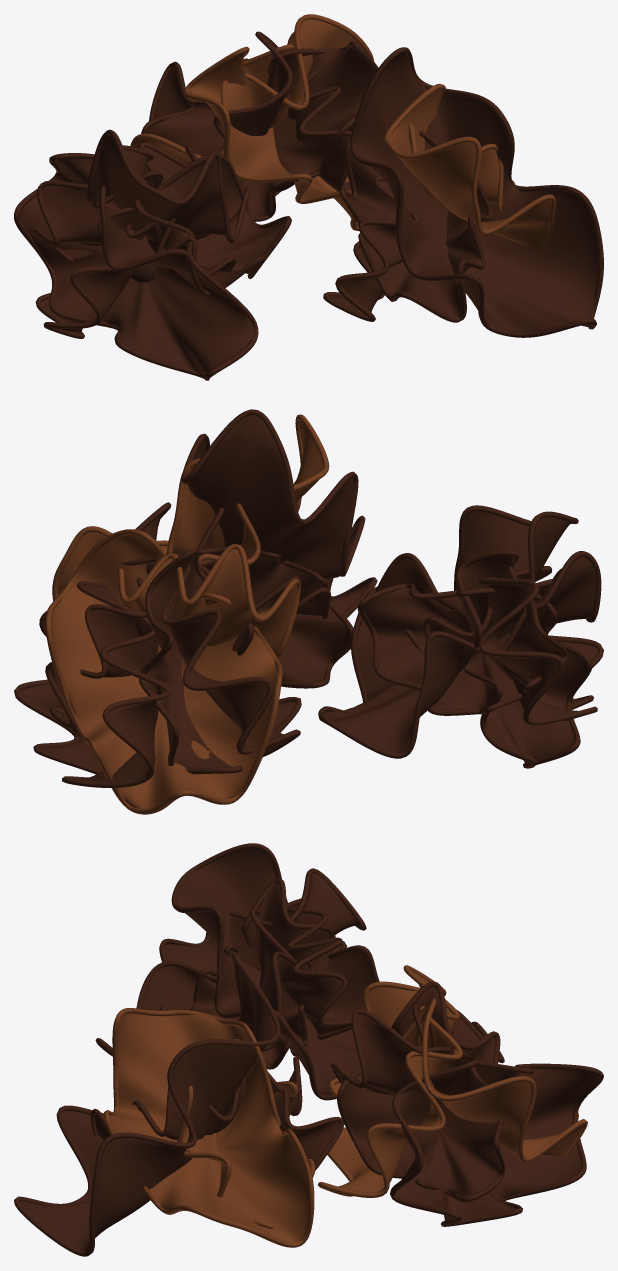
Rendered from jamur_kuping.glb.
3 renders of one model, top to bottom at view 1: azimuth 30°, elevation 25°; view 2: azimuth 150°, elevation 25°; view 3: azimuth 270°, elevation 25°, orthographic. The views are drawn at different scales.
Visible parts, largest first — view 1: rumpun_kanan_bawah_lobe_2_blade, rumpun_kiri_lobe_3_blade, rumpun_kanan_atas_lobe_3_blade, rumpun_kanan_bawah_lobe_1_blade, rumpun_kiri_lobe_2_blade, rumpun_kanan_bawah_lobe_3_blade, rumpun_kanan_bawah_lobe_2_rim, rumpun_kiri_lobe_6_blade, rumpun_kanan_atas_lobe_2_blade, rumpun_kiri_lobe_3_rim, rumpun_kiri_lobe_5_blade, rumpun_kanan_atas_lobe_5_blade (+21 smaller); view 2: rumpun_kanan_atas_lobe_5_blade, rumpun_kanan_bawah_lobe_2_blade, rumpun_kiri_lobe_6_blade, rumpun_kiri_lobe_5_blade, rumpun_kiri_lobe_4_blade, rumpun_kanan_atas_lobe_6_blade, rumpun_kanan_bawah_lobe_4_blade, rumpun_kanan_atas_lobe_4_blade, rumpun_kanan_atas_lobe_2_blade, rumpun_kanan_atas_lobe_6_rim, rumpun_kiri_lobe_6_rim, rumpun_kanan_atas_lobe_5_rim (+20 smaller); view 3: rumpun_kanan_bawah_lobe_1_blade, rumpun_kanan_bawah_lobe_2_blade, rumpun_kanan_atas_lobe_6_blade, rumpun_kiri_lobe_6_blade, rumpun_kanan_atas_lobe_1_blade, rumpun_kanan_atas_lobe_2_blade, rumpun_kanan_bawah_lobe_2_rim, rumpun_kiri_lobe_3_blade, rumpun_kanan_atas_lobe_5_blade, rumpun_kanan_atas_lobe_6_rim, rumpun_kanan_bawah_lobe_1_rim, rumpun_kanan_atas_lobe_2_rim (+22 smaller).
Part boxes in pixels (box(x1,y1,x2,y2)): rumpun_kanan_bawah_lobe_2_blade: box(356, 52, 598, 331); rumpun_kiri_lobe_3_blade: box(19, 158, 254, 375); rumpun_kanan_atas_lobe_3_blade: box(147, 47, 374, 216); rumpun_kanan_bawah_lobe_1_blade: box(389, 89, 551, 249); rumpun_kiri_lobe_2_blade: box(96, 160, 285, 287); rumpun_kanan_bawah_lobe_3_blade: box(347, 139, 487, 316); rumpun_kanan_bawah_lobe_2_rim: box(350, 47, 603, 337); rumpun_kiri_lobe_6_blade: box(90, 135, 240, 240); rumpun_kanan_atas_lobe_2_blade: box(188, 53, 358, 226); rumpun_kiri_lobe_3_rim: box(14, 153, 258, 380); rumpun_kiri_lobe_5_blade: box(42, 147, 183, 261); rumpun_kanan_atas_lobe_5_blade: box(135, 19, 358, 172); rumpun_kanan_atas_lobe_5_blade: box(51, 535, 276, 808); rumpun_kanan_bawah_lobe_2_blade: box(186, 415, 358, 578); rumpun_kiri_lobe_6_blade: box(324, 511, 570, 752); rumpun_kiri_lobe_5_blade: box(364, 587, 562, 709); rumpun_kiri_lobe_4_blade: box(461, 556, 586, 763); rumpun_kanan_atas_lobe_6_blade: box(20, 585, 164, 782); rumpun_kanan_bawah_lobe_4_blade: box(212, 553, 350, 682); rumpun_kanan_atas_lobe_4_blade: box(144, 555, 247, 768); rumpun_kanan_atas_lobe_2_blade: box(123, 549, 296, 652); rumpun_kanan_atas_lobe_6_rim: box(14, 581, 170, 787); rumpun_kiri_lobe_6_rim: box(318, 505, 578, 758); rumpun_kanan_atas_lobe_5_rim: box(45, 529, 282, 814); rumpun_kanan_bawah_lobe_1_blade: box(109, 1013, 309, 1242); rumpun_kanan_bawah_lobe_2_blade: box(19, 968, 275, 1251); rumpun_kanan_atas_lobe_6_blade: box(395, 1060, 598, 1220); rumpun_kiri_lobe_6_blade: box(177, 848, 373, 1095); rumpun_kanan_atas_lobe_1_blade: box(342, 1052, 499, 1196); rumpun_kanan_atas_lobe_2_blade: box(330, 972, 457, 1192); rumpun_kanan_bawah_lobe_2_rim: box(14, 953, 280, 1256); rumpun_kiri_lobe_3_blade: box(109, 873, 359, 1049); rumpun_kanan_atas_lobe_5_blade: box(407, 1006, 582, 1156); rumpun_kanan_atas_lobe_6_rim: box(390, 1056, 603, 1226); rumpun_kanan_bawah_lobe_1_rim: box(104, 1008, 314, 1247); rumpun_kanan_atas_lobe_2_rim: box(318, 965, 462, 1197).
Size of the model in its own units: 0.1851 by 0.0858 by 0.1851.
